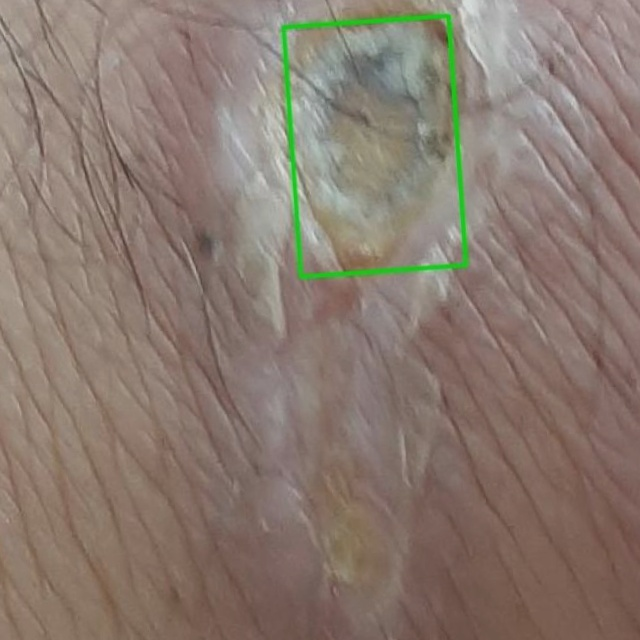Contact Dermatitis: (283, 15, 465, 276)
